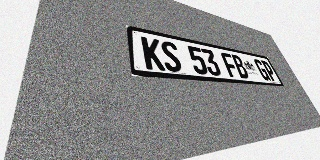3: (200, 48, 222, 76)
5: (187, 45, 209, 75)
B: (230, 54, 250, 79)
F: (220, 52, 241, 78)
G: (253, 59, 271, 81)
K: (141, 36, 166, 71)
P: (260, 60, 278, 81)
S: (159, 40, 183, 73)
